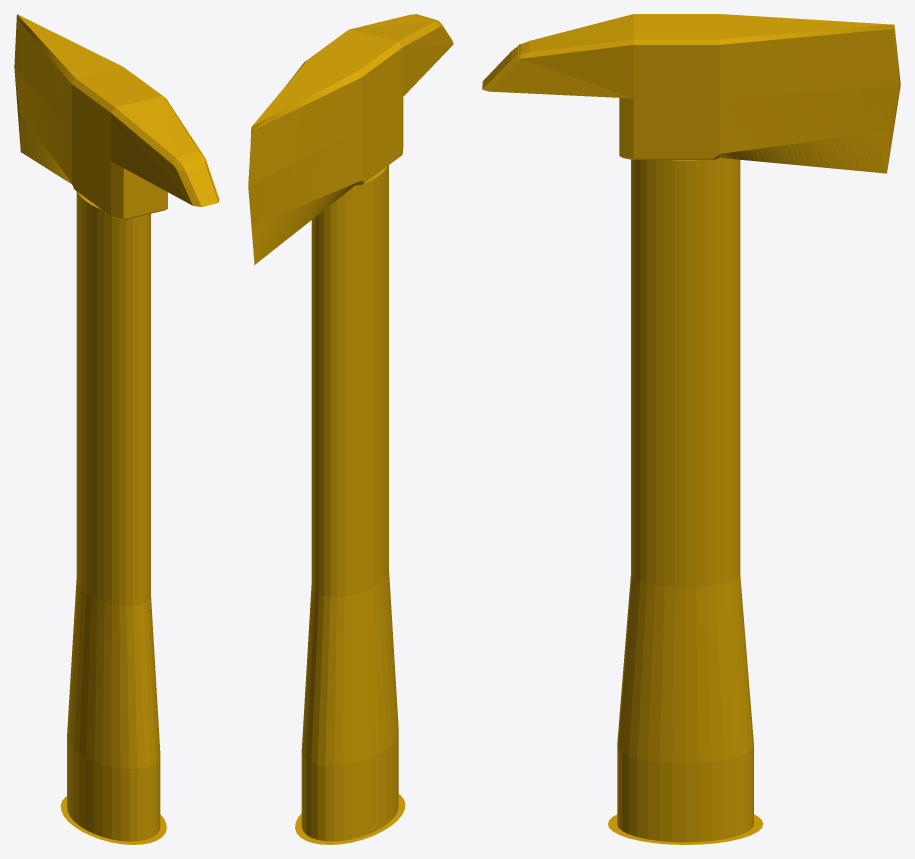
Rendered from fire_axe.glb.
3 renders of one model, left to right at view 1: azimuth 30°, elevation 25°; view 2: azimuth 150°, elevation 25°; view 3: azimuth 270°, elevation 25°, orthographic. The views are drawn at different scales.
Parts seen in each view (by area): view 1: world; view 2: world; view 3: world.
Boxes of the visible parts, <box> form: world: <box>14,14,219,844</box>; world: <box>248,14,453,844</box>; world: <box>482,14,900,844</box>.
Size of the model in its own units: 0.1124 by 1 by 0.4749.
